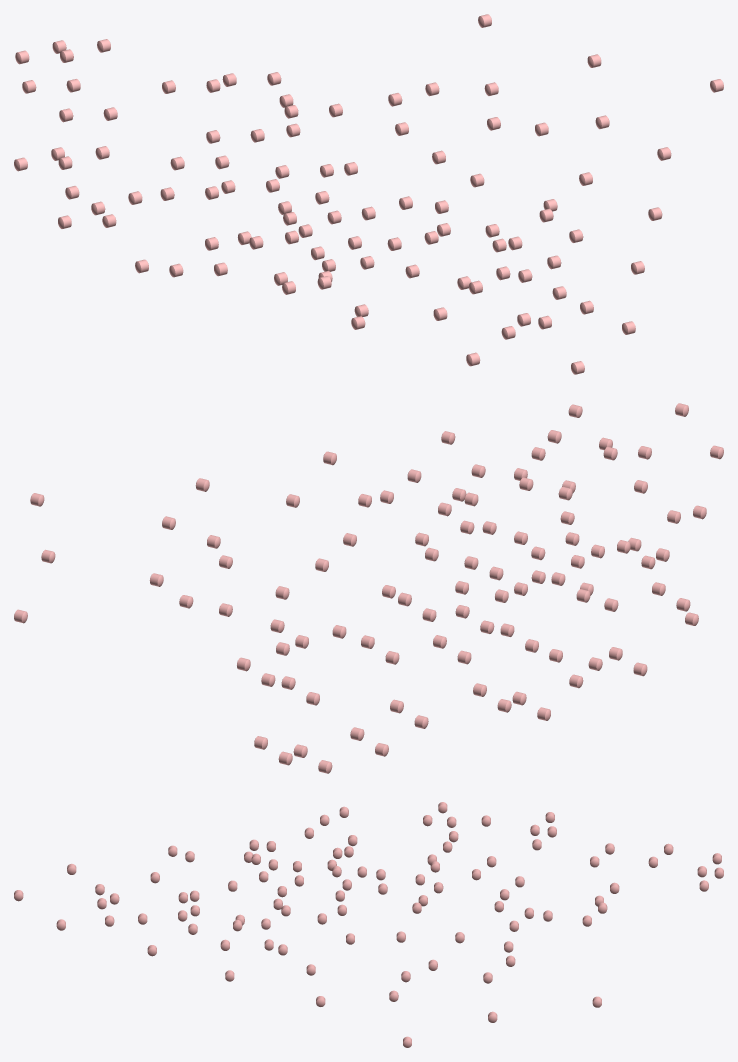
Rendered from pillsglb.glb.
3 renders of one model, top to bottom at view 1: azimuth 30°, elevation 25°; view 2: azimuth 150°, elevation 25°; view 3: azimuth 270°, elevation 25°, orthographic. The views are drawn at different scales.
Size of the model in its own units: 0.1246 by 0.00205 by 0.1565.
